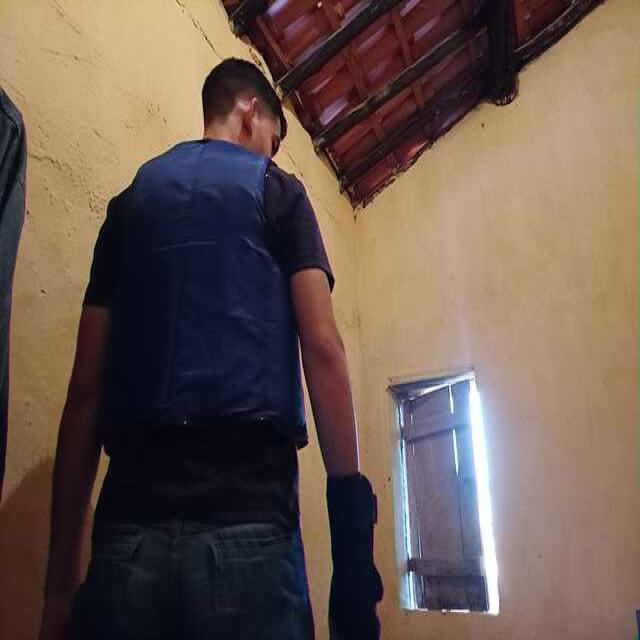colete: (118, 143, 306, 440)
pessoa: (63, 60, 381, 640)
